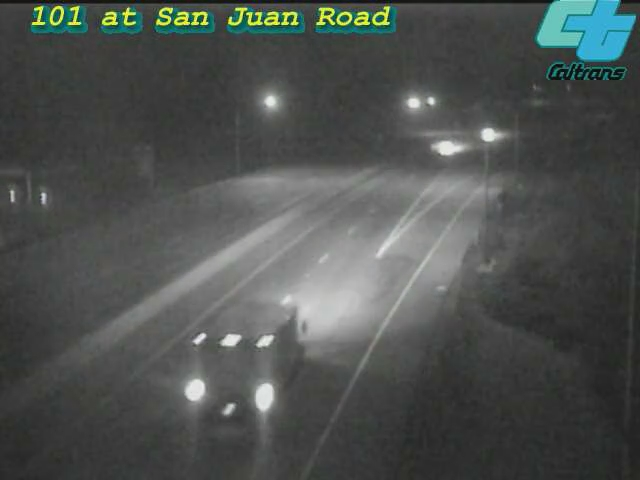vehicle: (178, 304, 288, 414), (464, 110, 514, 160), (423, 121, 473, 171)
